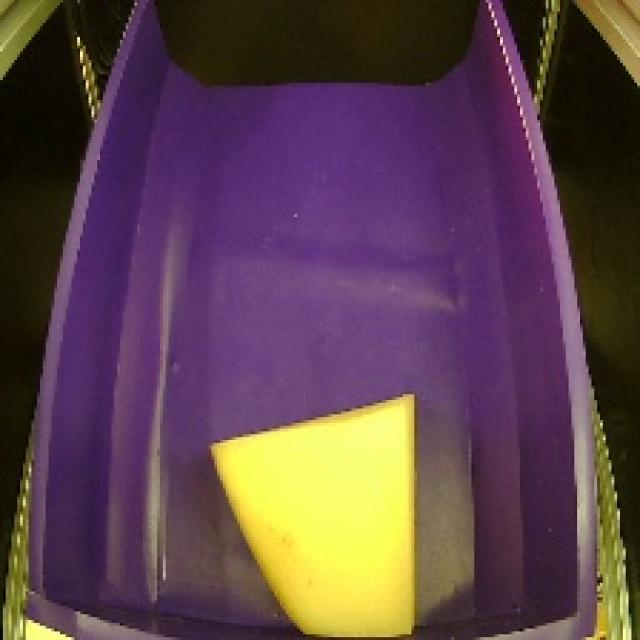potato: (188, 378, 442, 640)
